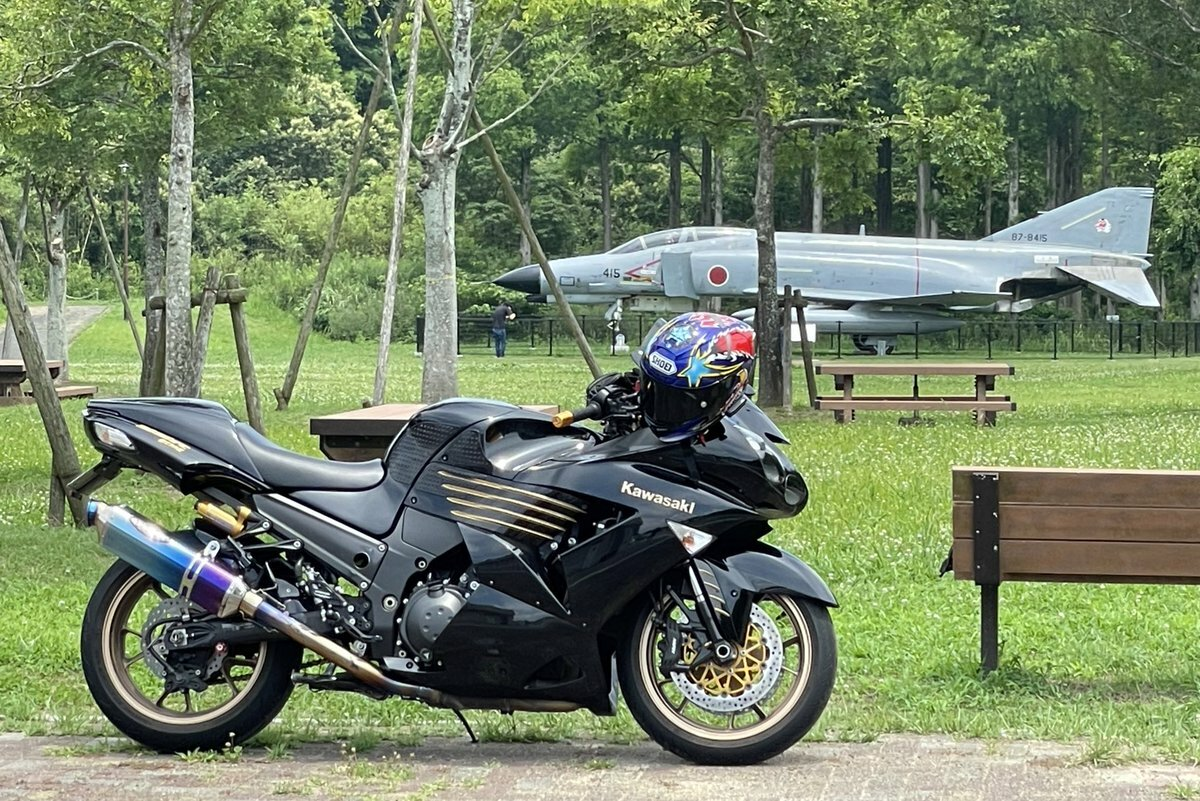F4: (469, 186, 1162, 354)
